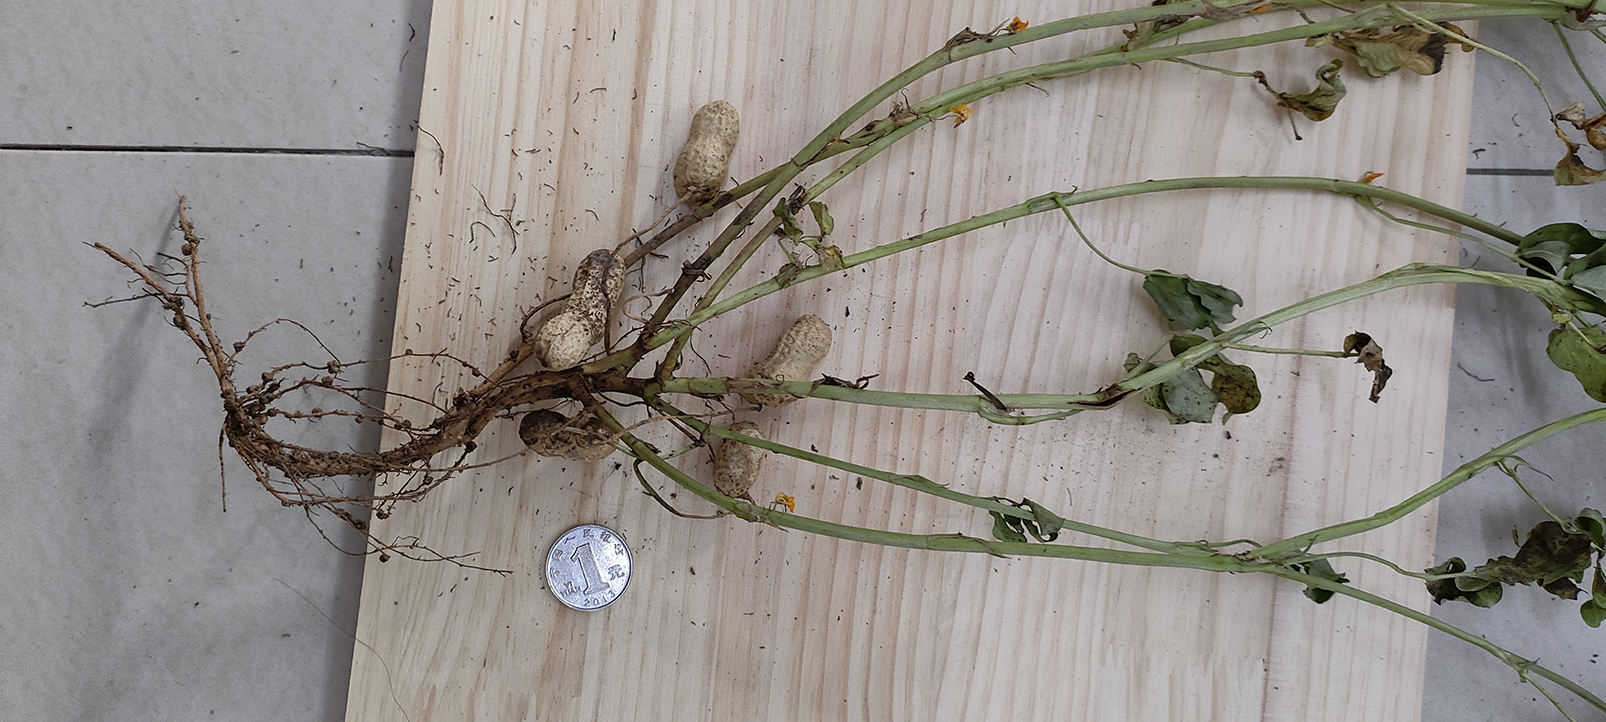h: (530, 246, 625, 370), (739, 315, 833, 405), (672, 97, 739, 203), (713, 420, 766, 497)
l: (517, 410, 620, 458)
